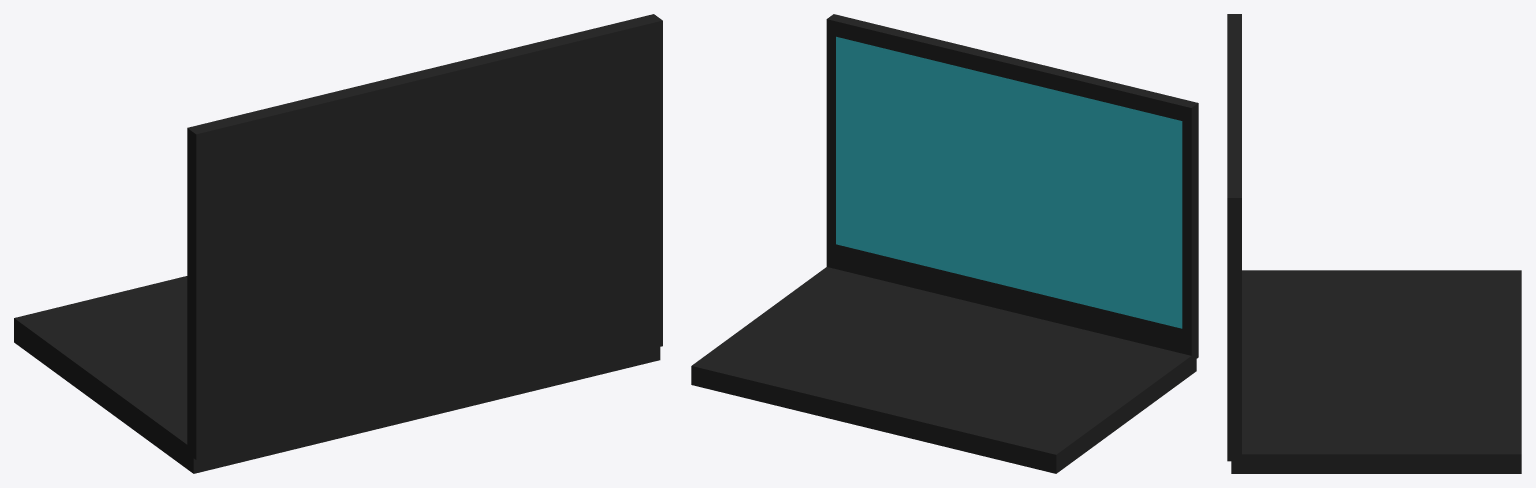
File: LAPTOP2.fbx
The picture shows the model from 3 angles, left to right: view 1: azimuth 30°, elevation 25°; view 2: azimuth 150°, elevation 25°; view 3: azimuth 270°, elevation 25°; orthographic projection. The views are drawn at different scales.
Visible parts, largest first — view 1: Cube.002, Cube.001; view 2: Cube.002, Cube.001; view 3: Cube.001, Cube.002.
Part boxes in pixels (x1,y1,x2,y2): Cube.002: [187, 14, 662, 459]; Cube.001: [14, 276, 660, 473]; Cube.002: [826, 14, 1198, 361]; Cube.001: [691, 267, 1196, 473]; Cube.001: [1231, 270, 1521, 473]; Cube.002: [1227, 14, 1241, 461].
Bounding box in the file's own units: 15 × 10.48 × 10.14.
